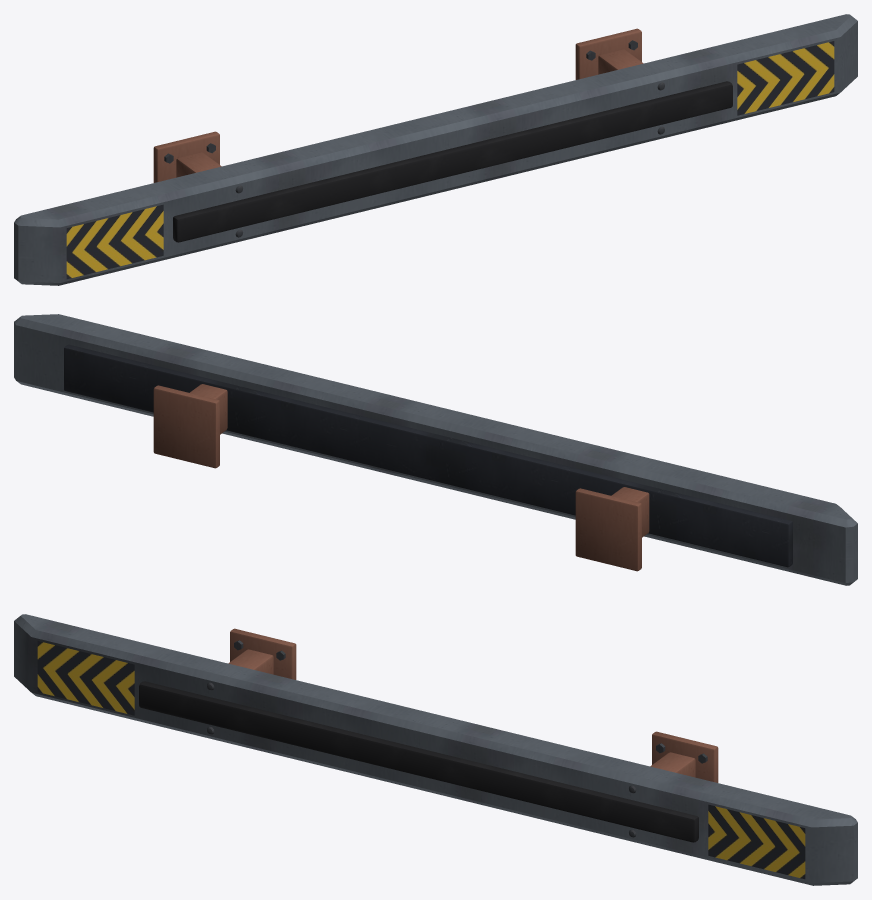
Rendered from bumper_front.glb.
3 views of the same model, one above another, from view 1: azimuth 30°, elevation 25°; view 2: azimuth 150°, elevation 25°; view 3: azimuth 330°, elevation 25° (orthographic).
Visible parts, largest first — view 1: BumperFrontBody; view 2: BumperFrontBody; view 3: BumperFrontBody.
Boxes of the visible parts, left/top/right/bottom form: BumperFrontBody: left=14, top=14, right=857, bottom=285; BumperFrontBody: left=14, top=314, right=857, bottom=585; BumperFrontBody: left=14, top=614, right=857, bottom=885.
Bounding box in the file's own units: 1.99 × 0.15 × 0.2465.
Materials: 7 (7 with a texture image).
